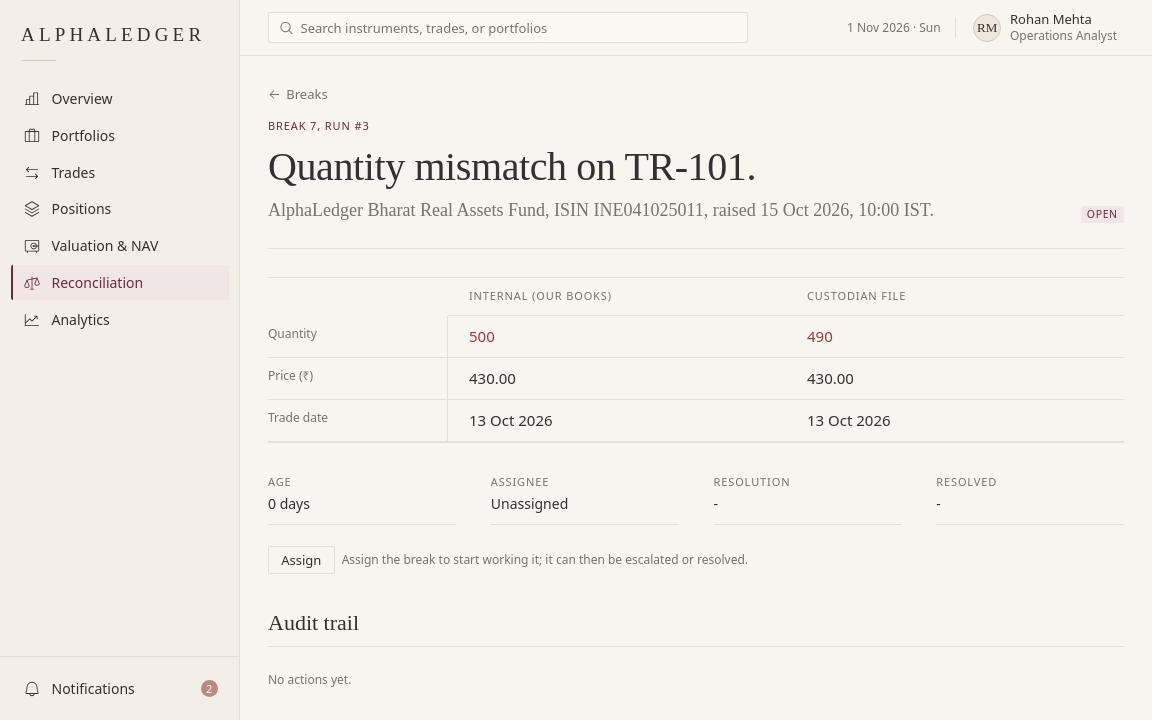
Test: reconciliation break workflow › assigns a break with a required comment and shows the new state
Expected: the heading "Quantity mismatch on TR-101." is shown, [268,144,756,188]
Click the button "Assign" at (301, 560), box [268,546,335,574]
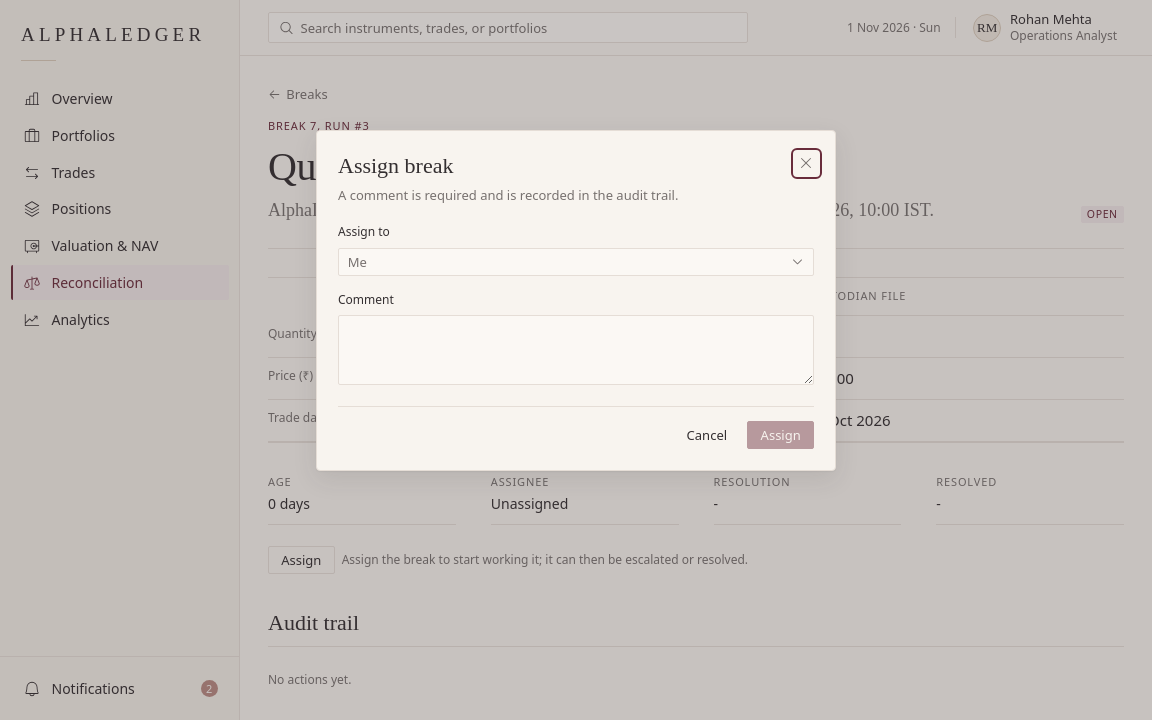
Expected: the button "Assign" is disabled, [747,421,814,449]
Type "Taking this one; custodian shows 490." into the text box labelled "Comment" at (576, 350), box [338,315,814,385]
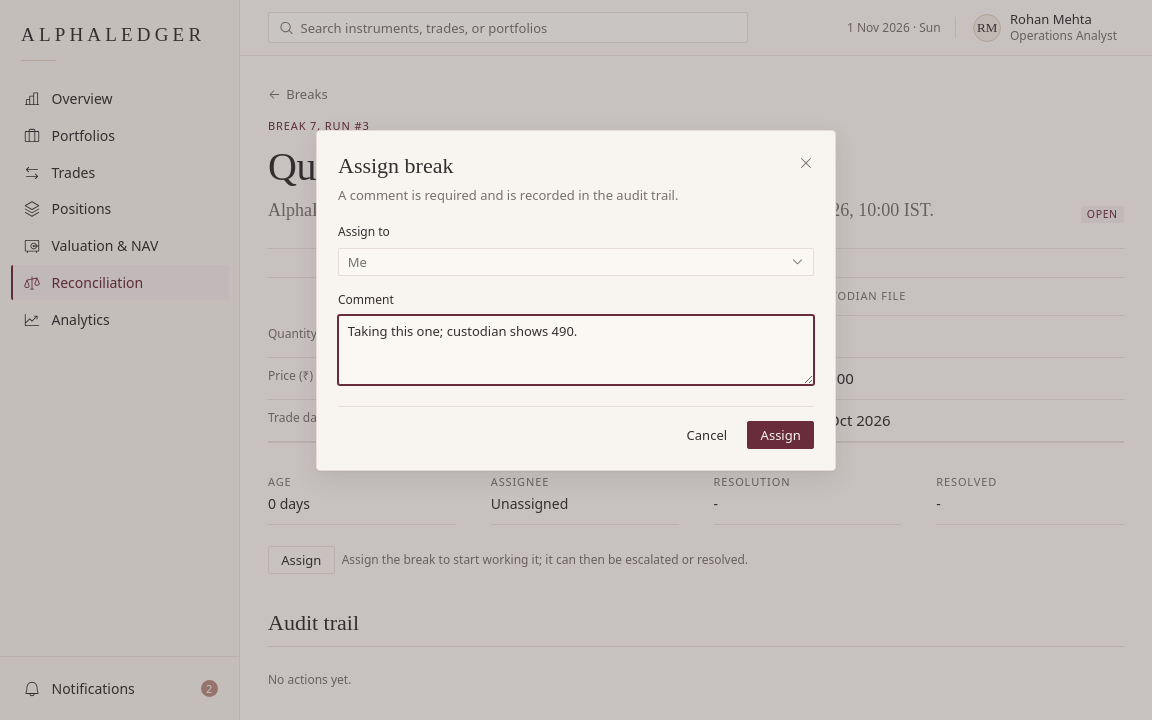
Click the button "Assign" at (781, 435), box [747,421,814,449]
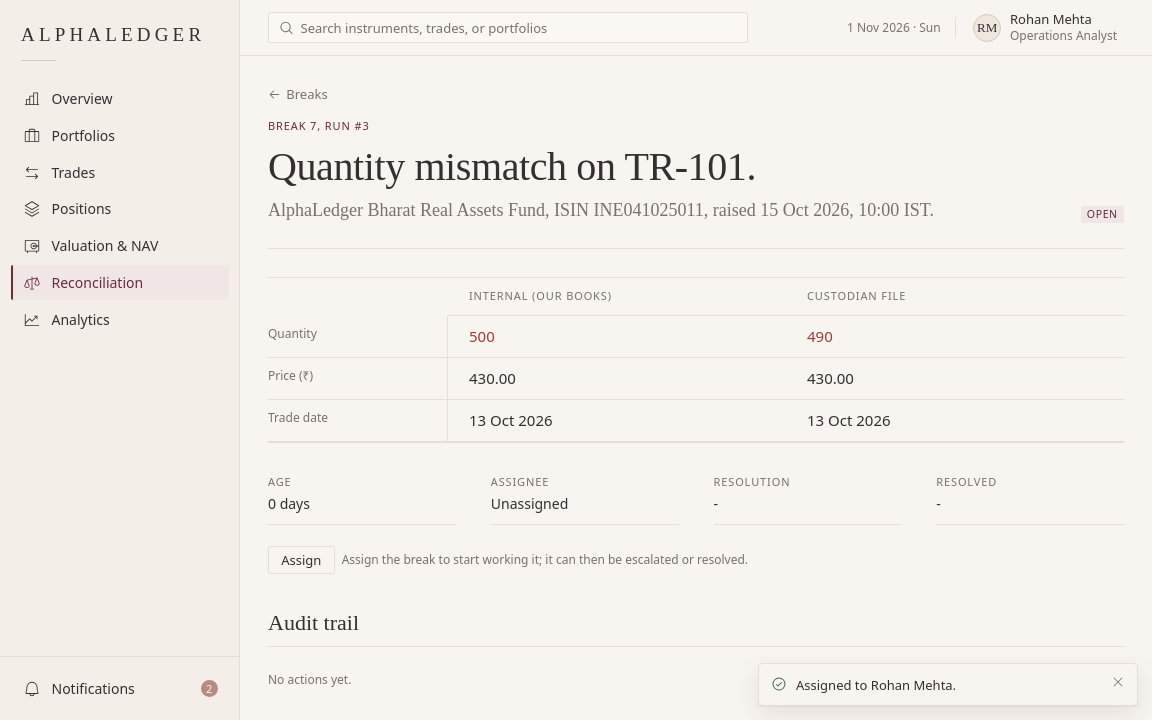
Expected: the text "Assigned to Rohan Mehta." is shown, [796,676,956,694]
